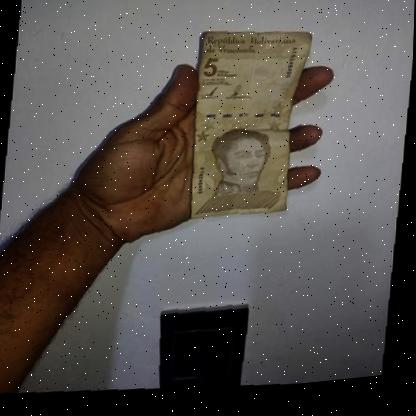five-front-vef: (190, 26, 312, 228)
